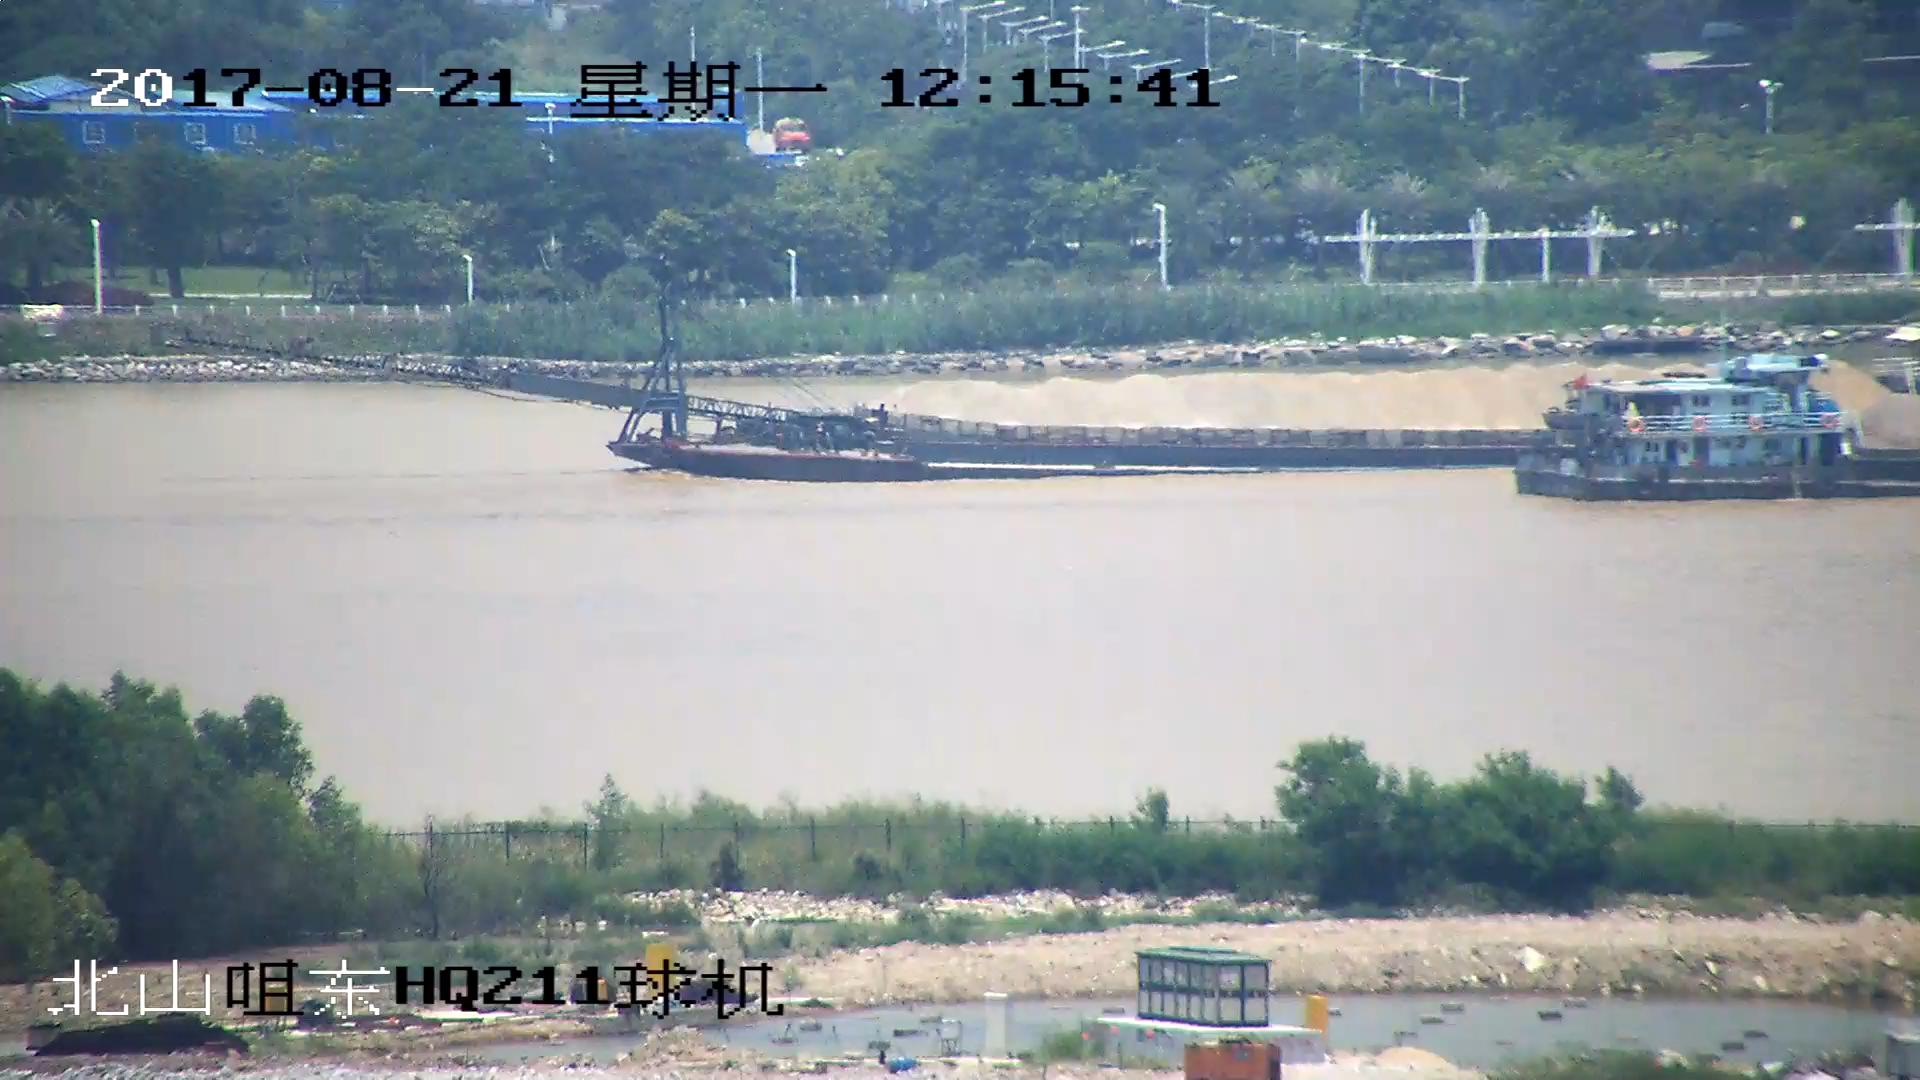bulk cargo carrier: (1529, 379, 1920, 496)
ore carrier: (151, 316, 1920, 469)
